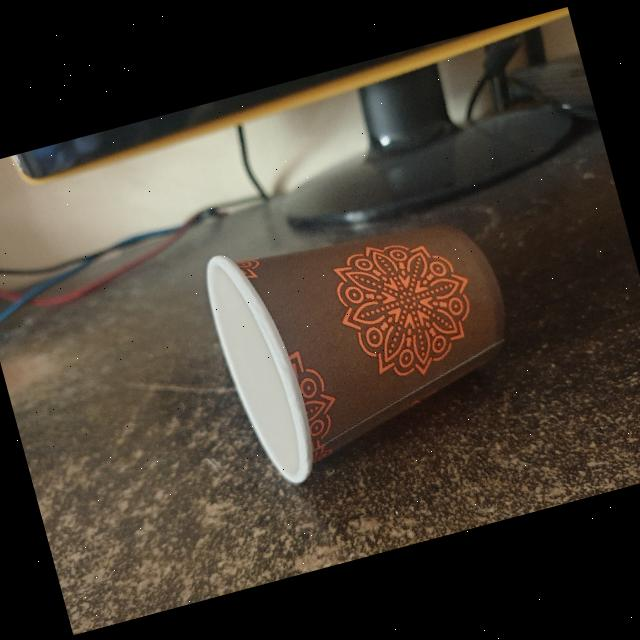trash: (185, 180, 542, 504)
